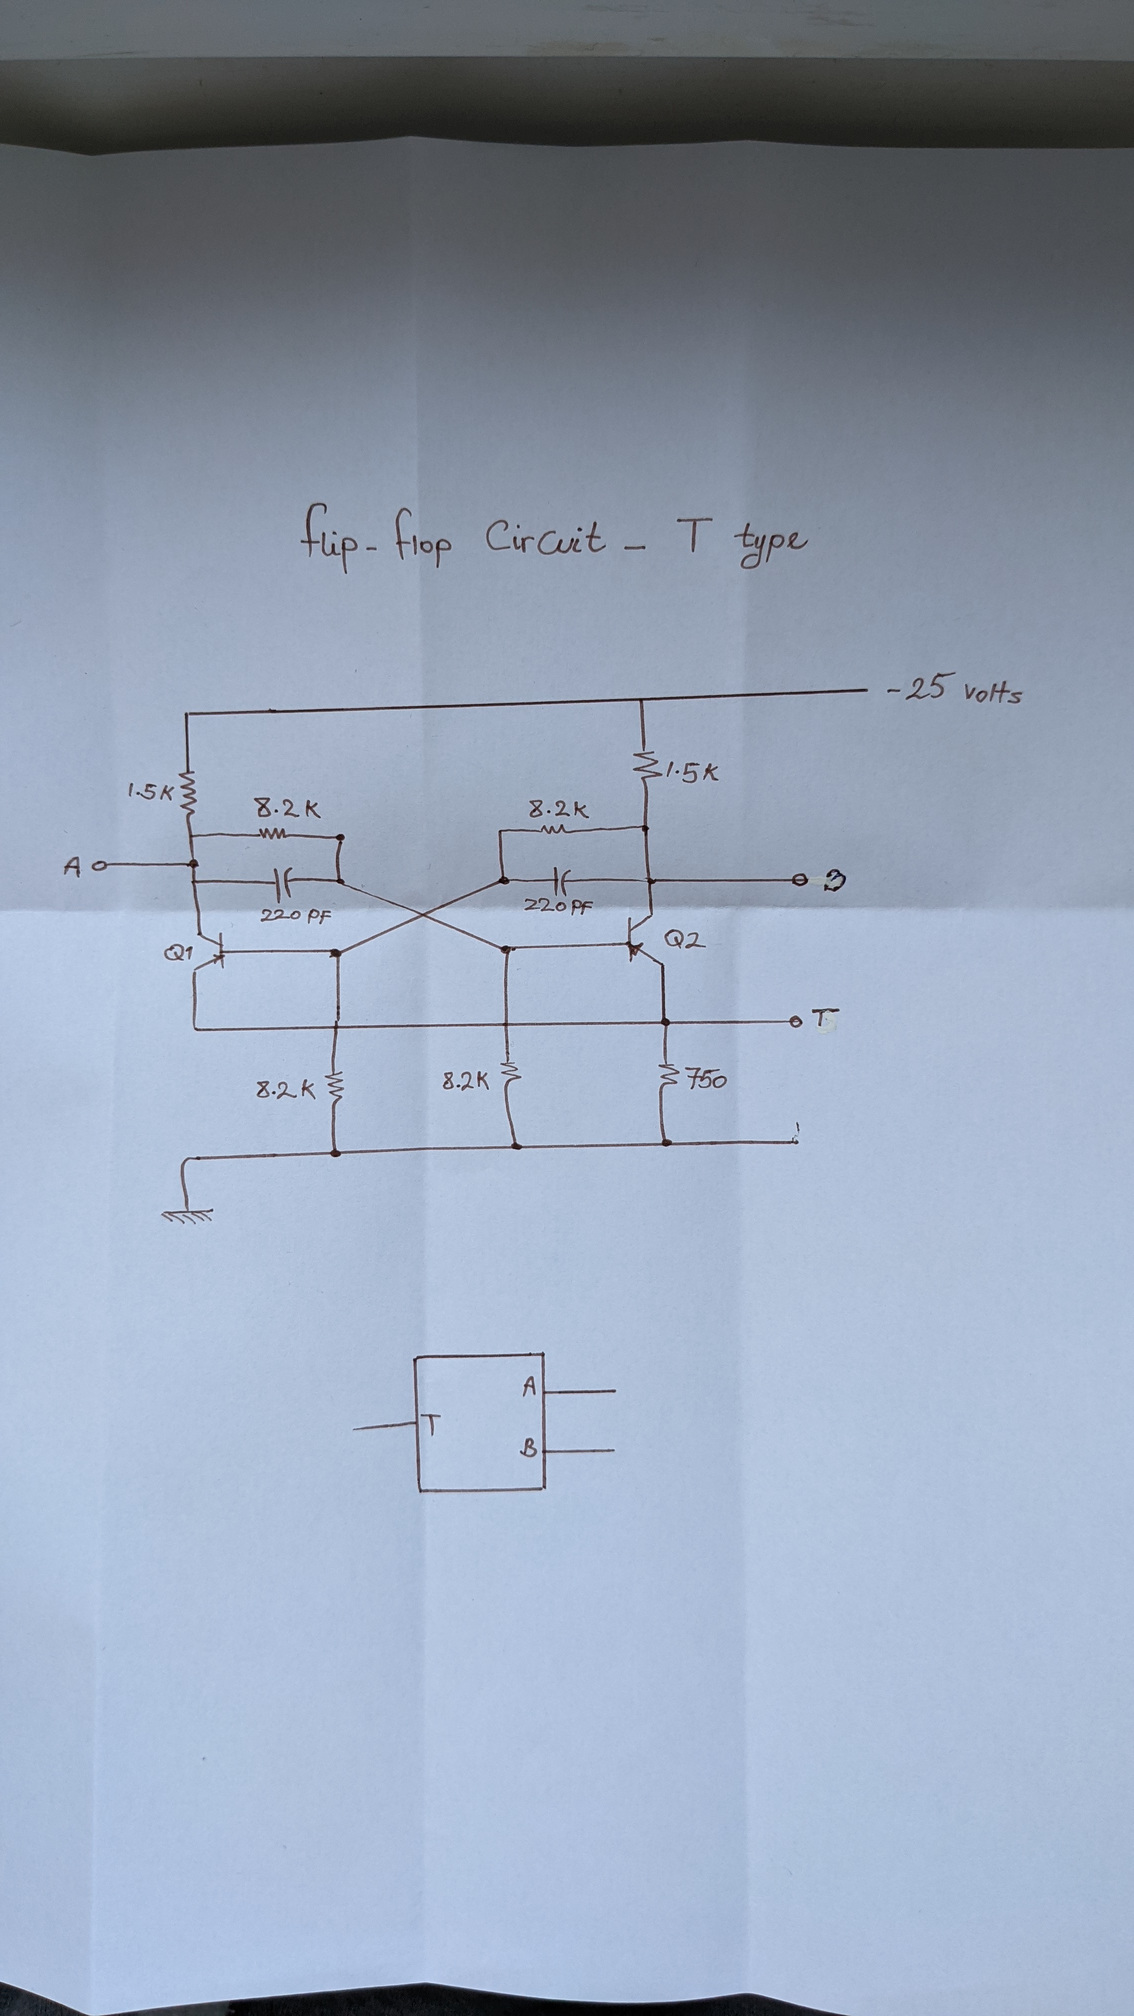capacitor.unpolarized: (269, 863, 295, 906), (551, 864, 575, 899)
crossover: (330, 1016, 346, 1036), (498, 1016, 516, 1032), (414, 908, 432, 922)
gnd: (158, 1205, 219, 1227)
integrated_circuit: (410, 1349, 552, 1495)
junction: (325, 944, 346, 961), (498, 942, 521, 957), (634, 875, 660, 888), (494, 872, 512, 889), (636, 820, 654, 835), (786, 1134, 804, 1149), (658, 1135, 676, 1149), (508, 1140, 528, 1152), (188, 1020, 204, 1036), (186, 856, 201, 871), (633, 692, 649, 706), (327, 1146, 343, 1160), (658, 1016, 676, 1029), (177, 1153, 191, 1169), (332, 875, 349, 888), (334, 832, 348, 845), (181, 708, 194, 721), (496, 825, 507, 838), (188, 876, 199, 886), (186, 832, 197, 840)
resistor: (631, 746, 665, 786), (177, 768, 199, 820), (323, 1069, 346, 1106), (498, 1059, 525, 1091), (656, 1061, 681, 1094), (258, 825, 289, 842), (539, 822, 570, 835)
terminal: (784, 1012, 804, 1032), (791, 871, 811, 888), (89, 858, 109, 872), (349, 1423, 360, 1434), (609, 1444, 619, 1455), (611, 1385, 620, 1396), (863, 685, 872, 695)
text: (296, 500, 813, 570), (885, 669, 1025, 706), (251, 795, 325, 821), (253, 1077, 320, 1104), (521, 894, 595, 917), (258, 906, 334, 926), (526, 798, 591, 821), (665, 759, 721, 785), (683, 1063, 730, 1092), (125, 780, 177, 803), (440, 1069, 492, 1092), (662, 926, 709, 951), (821, 867, 850, 894), (810, 1007, 842, 1032), (162, 942, 195, 964), (420, 1412, 444, 1439), (61, 854, 84, 881), (516, 1436, 540, 1459), (521, 1372, 539, 1398)
transistor: (624, 910, 667, 969), (190, 929, 228, 976)
